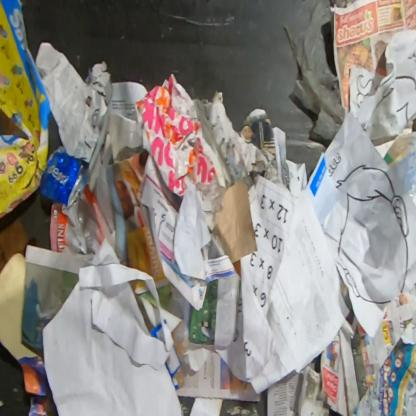cardboard: (0, 208, 28, 276)
metal: (41, 146, 84, 208)
soft_plastic: (280, 0, 347, 142), (48, 186, 112, 255)
